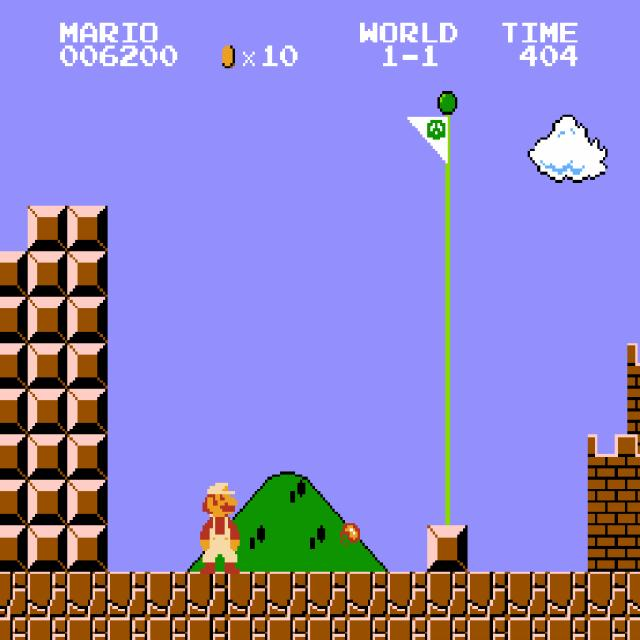fire_mario: (197, 480, 240, 574)
fireball: (340, 520, 360, 546)
goal_pole: (427, 114, 468, 160), (427, 160, 468, 206), (427, 297, 468, 343), (427, 434, 468, 480), (427, 480, 468, 526), (427, 69, 468, 114), (427, 206, 468, 251), (427, 252, 468, 297), (427, 343, 468, 388), (427, 389, 468, 434)
hard_block: (27, 297, 68, 343), (27, 434, 68, 480), (27, 480, 68, 526), (67, 297, 108, 343), (67, 434, 108, 480), (67, 480, 108, 526), (27, 206, 68, 251), (27, 252, 68, 297), (27, 343, 68, 388), (27, 389, 68, 434), (27, 526, 68, 571), (67, 206, 108, 251), (67, 252, 108, 297), (67, 343, 108, 388), (67, 389, 108, 434), (67, 526, 108, 571), (427, 526, 468, 571), (0, 297, 28, 343), (0, 434, 28, 480), (0, 480, 28, 526), (0, 252, 28, 297), (0, 343, 28, 388), (0, 389, 28, 434), (0, 526, 28, 571)
undestructible_block: (27, 572, 68, 617), (67, 572, 108, 617), (107, 572, 148, 617), (147, 572, 188, 617), (187, 572, 228, 617), (227, 572, 268, 617), (267, 572, 308, 617), (307, 572, 348, 617), (347, 572, 388, 617), (387, 572, 428, 617), (427, 572, 468, 617), (467, 572, 508, 617), (507, 572, 548, 617), (547, 572, 588, 617), (587, 572, 628, 617), (0, 572, 28, 617), (27, 617, 68, 640), (67, 617, 108, 640), (107, 617, 148, 640), (147, 617, 188, 640), (187, 617, 228, 640), (227, 617, 268, 640), (267, 617, 308, 640), (307, 617, 348, 640), (347, 617, 388, 640), (387, 617, 428, 640), (427, 617, 468, 640), (467, 617, 508, 640), (507, 617, 548, 640), (547, 617, 588, 640), (587, 617, 628, 640), (0, 617, 28, 640), (627, 572, 640, 617), (627, 617, 640, 640)
